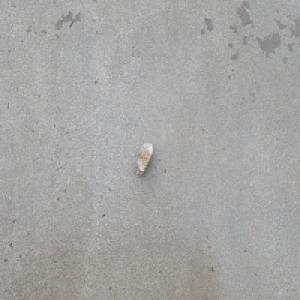Rock: (135, 141, 154, 176)
